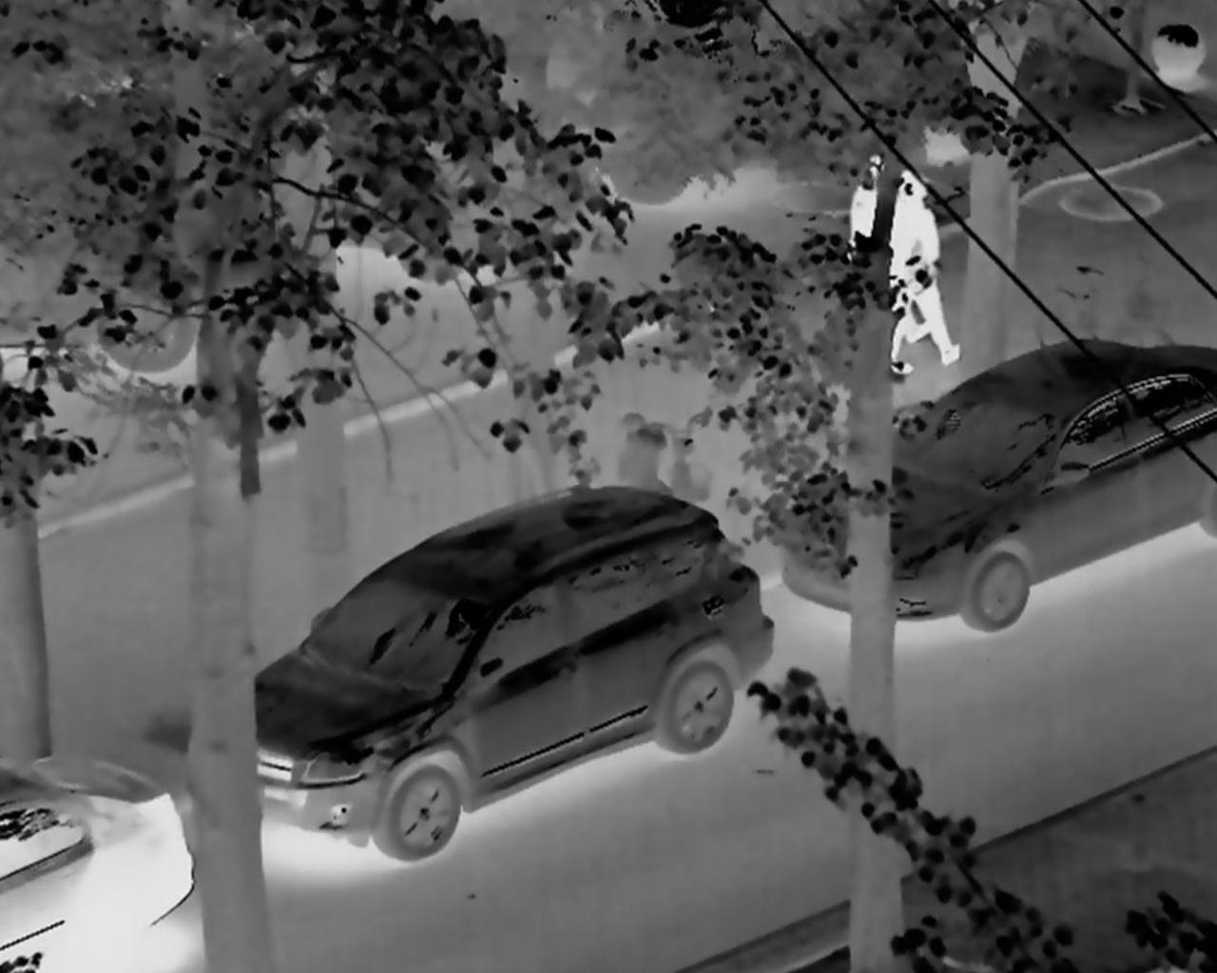person: (848, 144, 958, 383)
